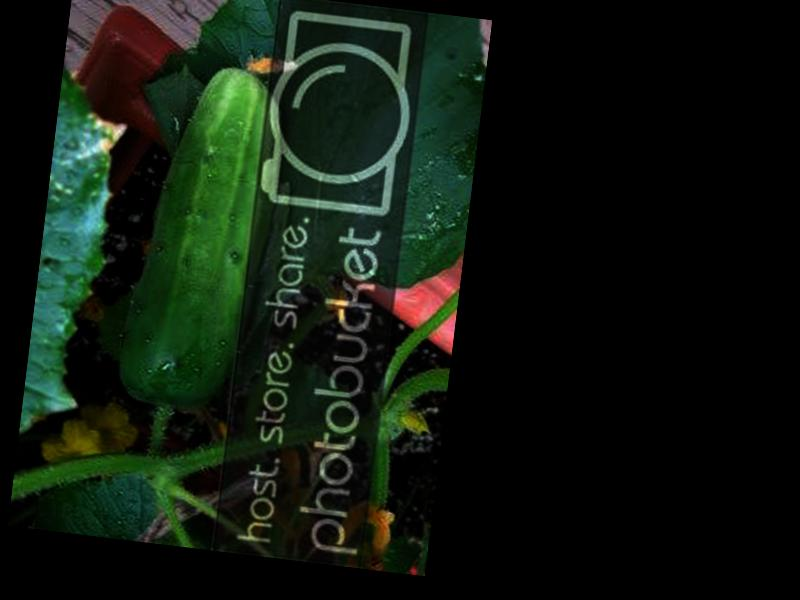Cucumber: (113, 54, 292, 413)
